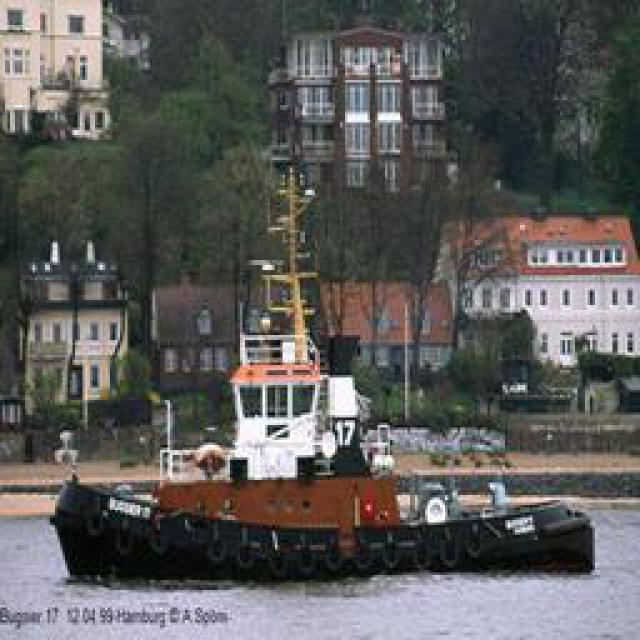Ship: (51, 301, 604, 586)
